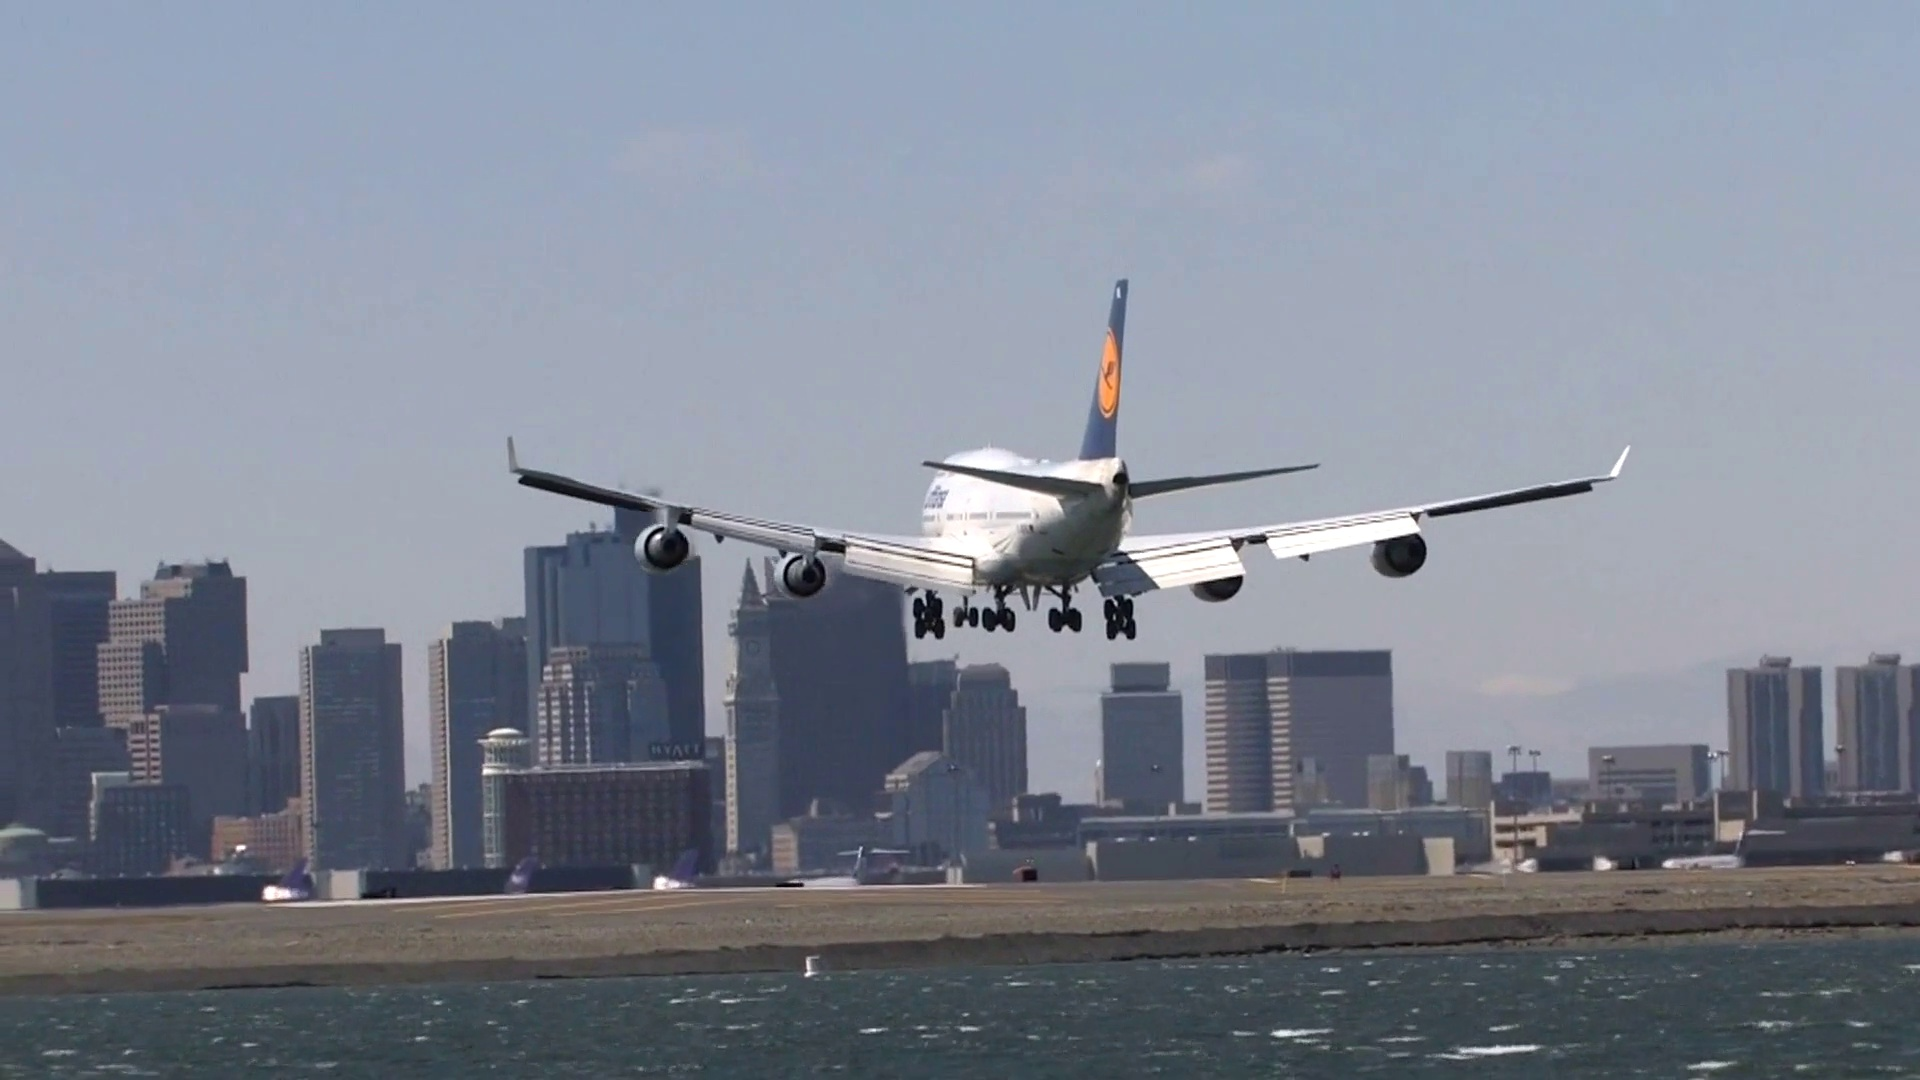plane: (505, 280, 1633, 645)
